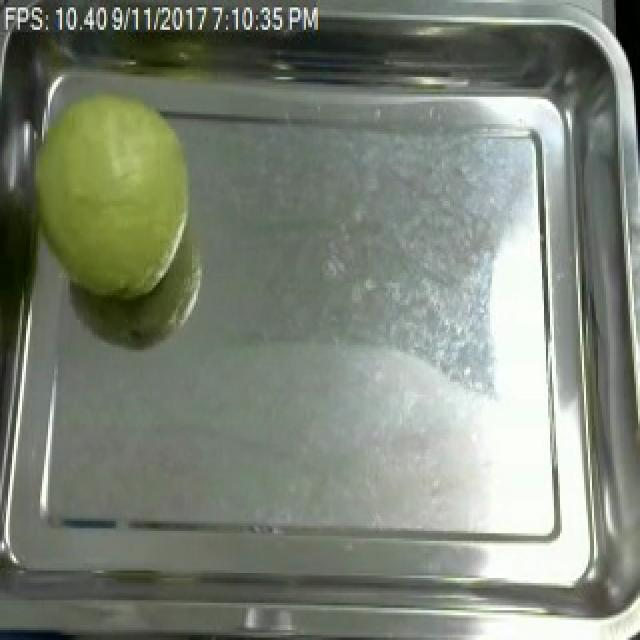Fruit: (4, 72, 204, 308)
